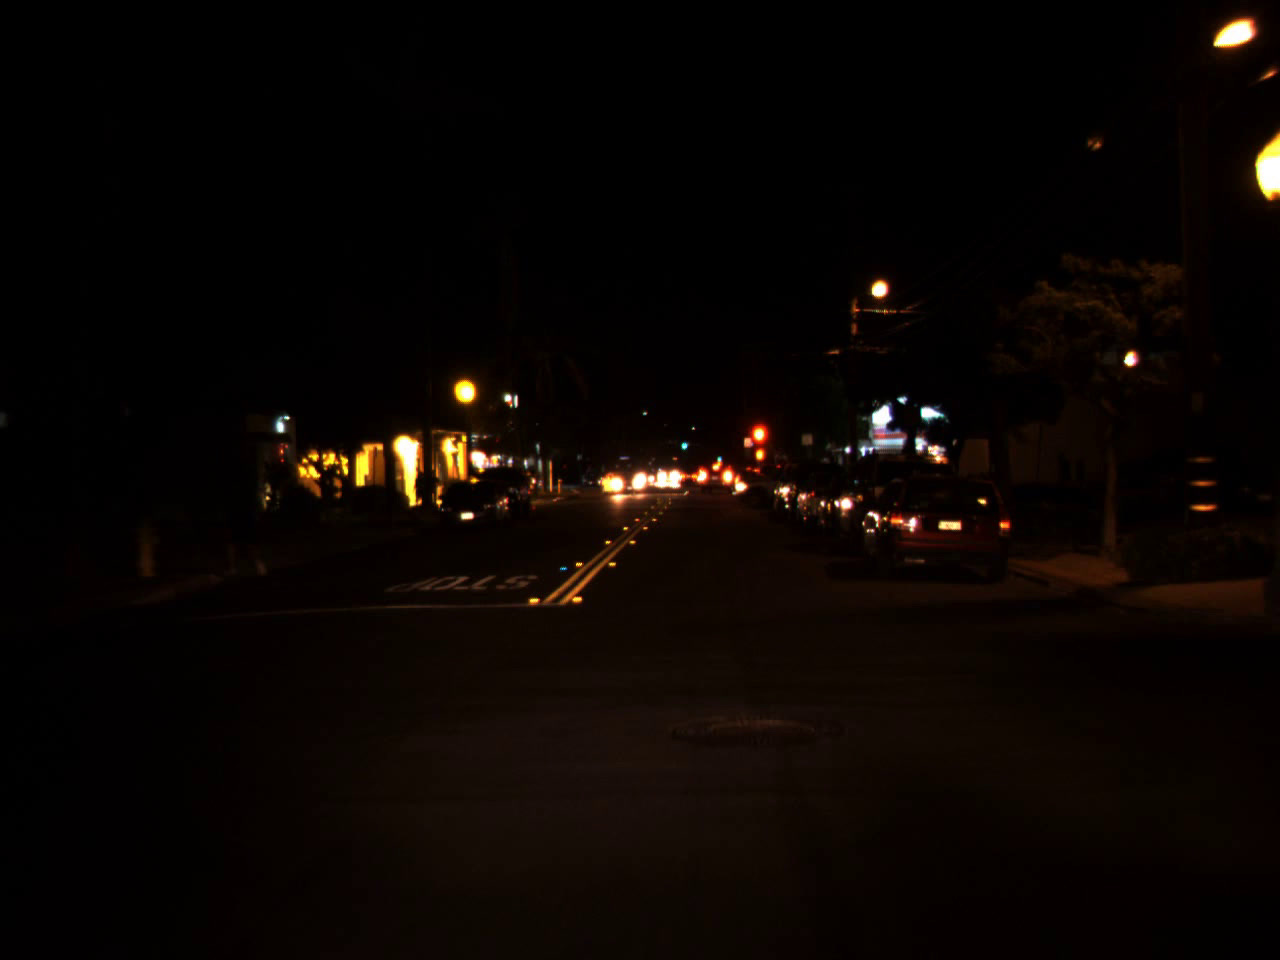go: (679, 435, 688, 450), (714, 448, 723, 463)
stop: (745, 421, 772, 469)
